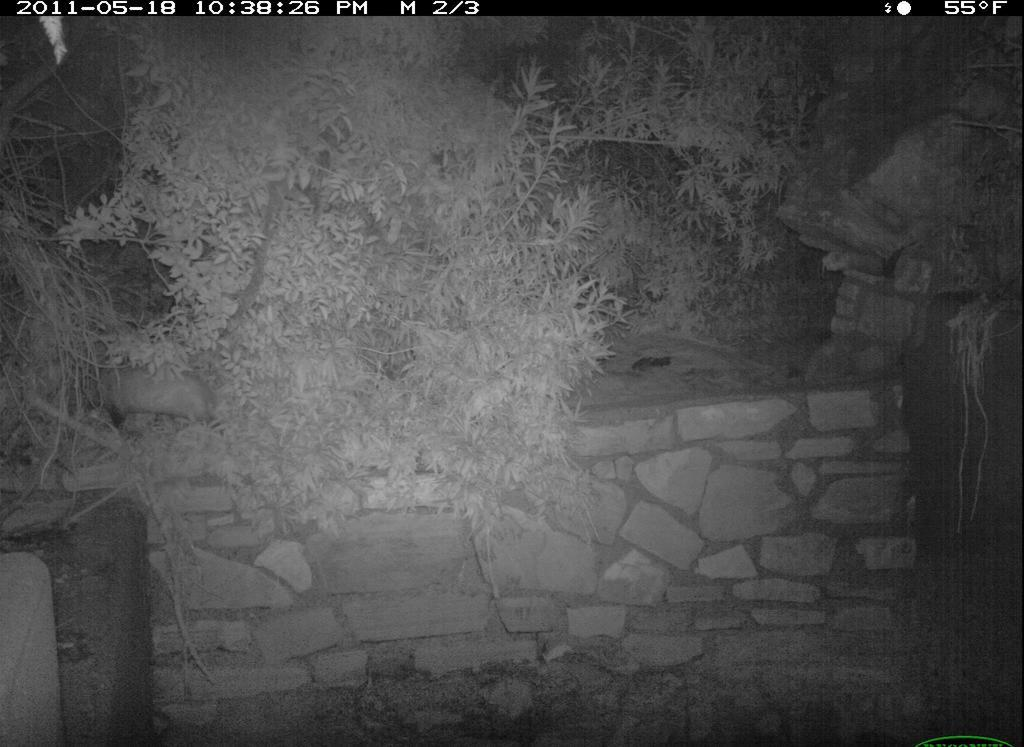opossum: (70, 355, 245, 445)
